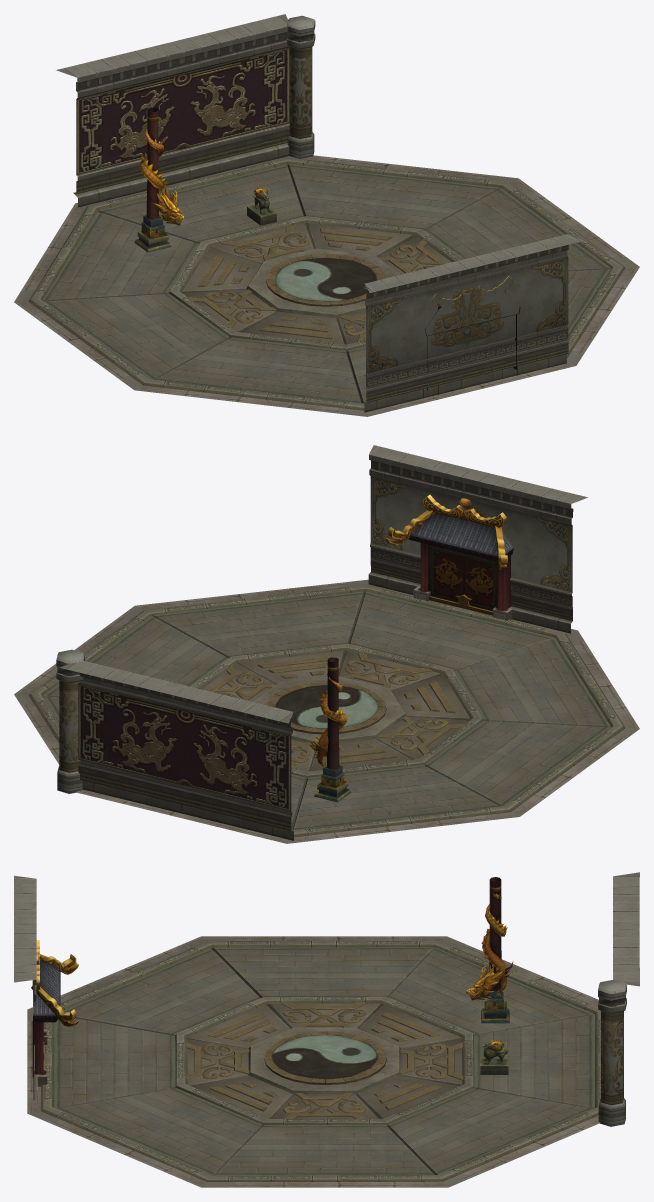
Rendered from s7_qianchongta_neibu_jianzhu001.FBX.
The picture shows the model from 3 angles, top to bottom: view 1: azimuth 30°, elevation 25°; view 2: azimuth 150°, elevation 25°; view 3: azimuth 270°, elevation 25°; orthographic projection. The views are drawn at different scales.
Parts seen in each view (by area): view 1: s7_qianchongta_neibu_dimian01, s7_qianchongta_neibu_shiqiang01, s7_qianchongta_neibu_shiqiang02, s7_qianchongta_neibu_shizhu01, s7_qianchongta_neibu_zhuzi01, s7_qianchongta_neibu_shisih01; view 2: s7_qianchongta_neibu_dimian01, s7_qianchongta_neibu_shiqiang01, s7_qianchongta_neibu_shiqiang02, s7_qianchongta_neibu_men01, s7_qianchongta_neibu_shizhu01, s7_qianchongta_neibu_zhuzi01; view 3: s7_qianchongta_neibu_dimian01, s7_qianchongta_neibu_shizhu01, s7_qianchongta_neibu_zhuzi01, s7_qianchongta_neibu_men01, s7_qianchongta_neibu_shiqiang01, s7_qianchongta_neibu_shiqiang02, s7_qianchongta_neibu_shisih01.
Boxes of the visible parts, x1,y1,x2,y2 form: s7_qianchongta_neibu_dimian01: (14,155,639,416); s7_qianchongta_neibu_shiqiang01: (56,14,289,207); s7_qianchongta_neibu_shiqiang02: (364,234,584,412); s7_qianchongta_neibu_shizhu01: (286,15,315,158); s7_qianchongta_neibu_zhuzi01: (134,107,184,252); s7_qianchongta_neibu_shisih01: (247,187,276,225); s7_qianchongta_neibu_dimian01: (14,579,639,843); s7_qianchongta_neibu_shiqiang01: (59,660,293,840); s7_qianchongta_neibu_shiqiang02: (368,445,587,633); s7_qianchongta_neibu_men01: (385,494,513,620); s7_qianchongta_neibu_shizhu01: (56,649,84,793); s7_qianchongta_neibu_zhuzi01: (308,657,351,802); s7_qianchongta_neibu_dimian01: (27,936,600,1187); s7_qianchongta_neibu_shizhu01: (598,979,626,1126); s7_qianchongta_neibu_zhuzi01: (466,877,513,1023); s7_qianchongta_neibu_men01: (31,940,78,1086); s7_qianchongta_neibu_shiqiang01: (613,872,639,986); s7_qianchongta_neibu_shiqiang02: (14,875,37,1101); s7_qianchongta_neibu_shisih01: (480,1039,509,1074).
Size of the model in its own units: 45.88 by 11.98 by 48.26.
2 materials, 2 textured.
